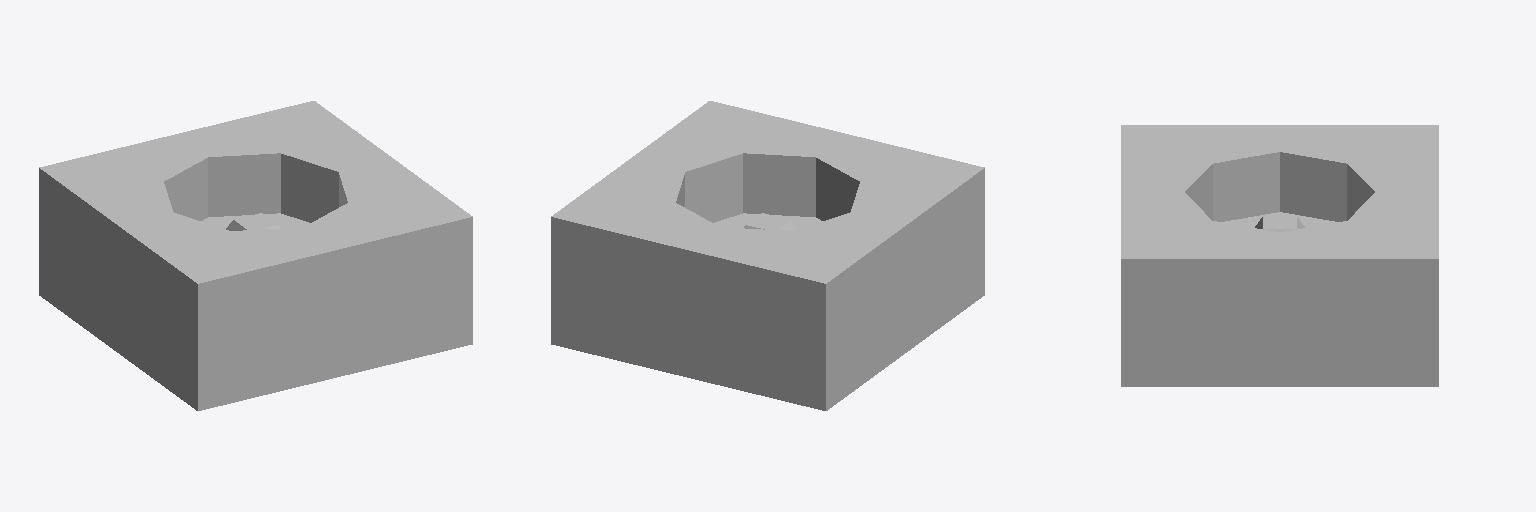
File: detail-ac-a.obj
3 renders of one model, left to right at view 1: azimuth 30°, elevation 25°; view 2: azimuth 150°, elevation 25°; view 3: azimuth 270°, elevation 25°, orthographic.
Parts seen in each view (by area): view 1: detail-ac-a; view 2: detail-ac-a; view 3: detail-ac-a.
Part boxes in pixels (x1,y1,x2,y2): detail-ac-a: (39,101,472,410); detail-ac-a: (551,101,984,410); detail-ac-a: (1121,125,1438,386).
Bounding box in the file's own units: 0.24 × 0.1063 × 0.24.